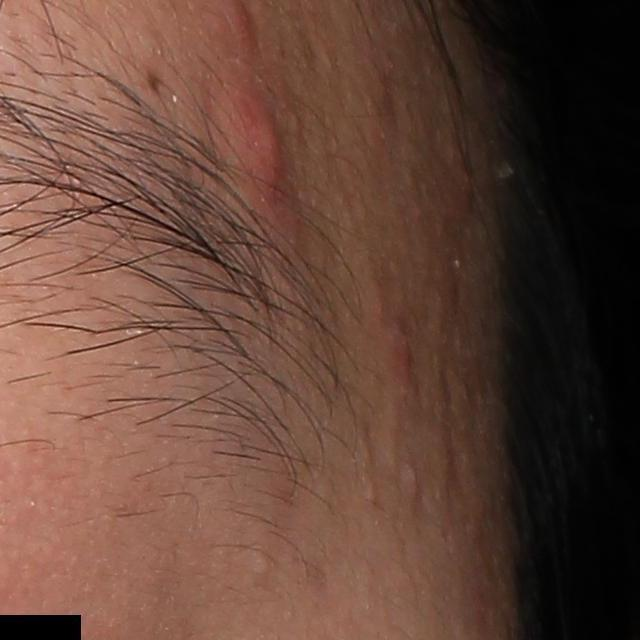nevus: (147, 70, 161, 93)
papule: (230, 86, 284, 216)
